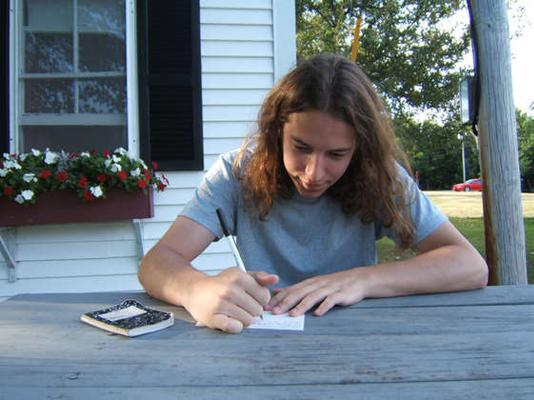person: (139, 53, 491, 334)
